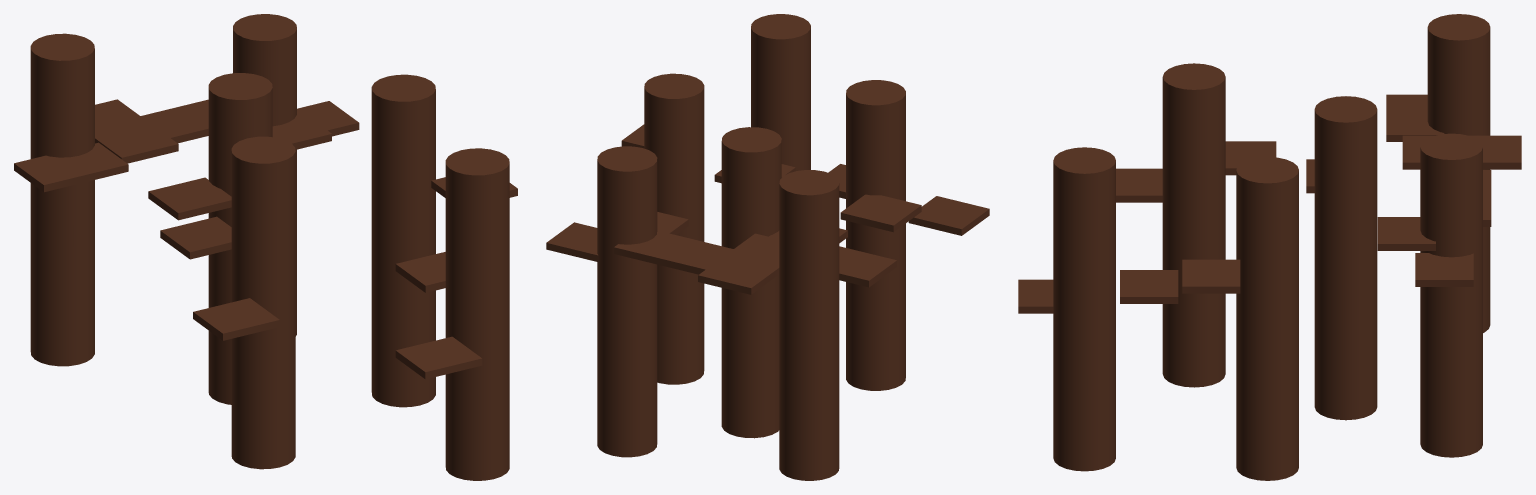
File: Forest_rough.fbx
3 views of the same model, side by side, from view 1: azimuth 30°, elevation 25°; view 2: azimuth 150°, elevation 25°; view 3: azimuth 270°, elevation 25° (orthographic). The views are drawn at different scales.
Parts seen in each view (by area): view 1: Cylinder__7_, Cylinder__1_, Cylinder__2_, Cylinder__5_, Cylinder__4_, Cylinder__3_, Cube__5_, Cube__7_, Cube__2_, Cube, Cube__4_, Cube__1_ (+4 smaller); view 2: Cylinder__2_, Cylinder__3_, Cylinder__1_, Cylinder__4_, Cylinder__5_, Cylinder__7_, Cube__5_, Cube__8_, Cube__1_, Cube, Cube__7_, Cube__9_ (+1 smaller); view 3: Cylinder__4_, Cylinder__7_, Cylinder__5_, Cylinder__1_, Cylinder__3_, Cylinder__2_, Cube__5_, Cube__6_, Cube__3_, Cube__7_, Cube__9_, Cube__10_ (+3 smaller).
Boxes of the visible parts, x1=… form: Cylinder__7_: x1=445, y1=148, x2=509, y2=480; Cylinder__1_: x1=231, y1=136, x2=295, y2=469; Cylinder__2_: x1=30, y1=33, x2=94, y2=366; Cylinder__5_: x1=371, y1=74, x2=435, y2=407; Cylinder__4_: x1=208, y1=73, x2=272, y2=404; Cylinder__3_: x1=233, y1=14, x2=296, y2=336; Cube__5_: x1=95, y1=99, x2=178, y2=163; Cube__7_: x1=14, y1=142, x2=128, y2=192; Cube__2_: x1=395, y1=336, x2=482, y2=379; Cube: x1=193, y1=298, x2=279, y2=340; Cube__4_: x1=148, y1=177, x2=231, y2=220; Cube__1_: x1=160, y1=216, x2=231, y2=259; Cylinder__2_: x1=779, y1=170, x2=839, y2=480; Cylinder__3_: x1=597, y1=146, x2=657, y2=457; Cylinder__1_: x1=846, y1=80, x2=905, y2=390; Cylinder__4_: x1=721, y1=127, x2=781, y2=438; Cylinder__5_: x1=644, y1=73, x2=704, y2=384; Cylinder__7_: x1=751, y1=14, x2=810, y2=170; Cube__5_: x1=698, y1=233, x2=779, y2=294; Cube__8_: x1=614, y1=230, x2=733, y2=274; Cube__1_: x1=840, y1=194, x2=921, y2=232; Cube: x1=908, y1=196, x2=989, y2=235; Cube__7_: x1=839, y1=246, x2=896, y2=287; Cube__9_: x1=546, y1=222, x2=598, y2=262; Cylinder__4_: x1=1314, y1=96, x2=1377, y2=420; Cylinder__7_: x1=1053, y1=147, x2=1115, y2=471; Cylinder__5_: x1=1236, y1=157, x2=1298, y2=480; Cylinder__1_: x1=1162, y1=63, x2=1225, y2=387; Cylinder__3_: x1=1420, y1=133, x2=1482, y2=457; Cylinder__2_: x1=1427, y1=14, x2=1490, y2=332; Cube__5_: x1=1402, y1=135, x2=1521, y2=169; Cube__6_: x1=1182, y1=259, x2=1240, y2=293; Cube__3_: x1=1120, y1=270, x2=1178, y2=303; Cube__7_: x1=1386, y1=94, x2=1444, y2=141; Cube__9_: x1=1415, y1=253, x2=1473, y2=286; Cube__10_: x1=1377, y1=217, x2=1435, y2=250.
Bounding box in the file's own units: 1984 × 1713 × 2404.
